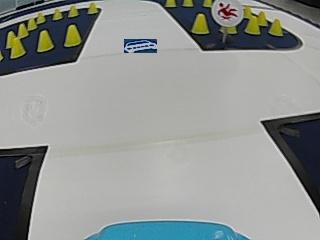cone: (190, 13, 209, 34), (36, 30, 53, 51), (64, 24, 80, 46), (245, 10, 259, 35), (9, 36, 23, 58), (268, 17, 282, 36), (17, 22, 27, 38), (87, 1, 98, 14), (68, 4, 79, 17), (52, 7, 62, 21), (27, 16, 36, 31), (36, 11, 45, 24), (182, 0, 193, 7)
tumble: (213, 1, 241, 24)
